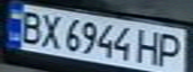4: (93, 21, 118, 59), (112, 24, 136, 62)
6: (60, 16, 84, 53)
9: (78, 19, 100, 56)
B: (15, 8, 45, 45)
H: (133, 27, 163, 65)
P: (154, 30, 187, 69)
X: (36, 11, 66, 50)
